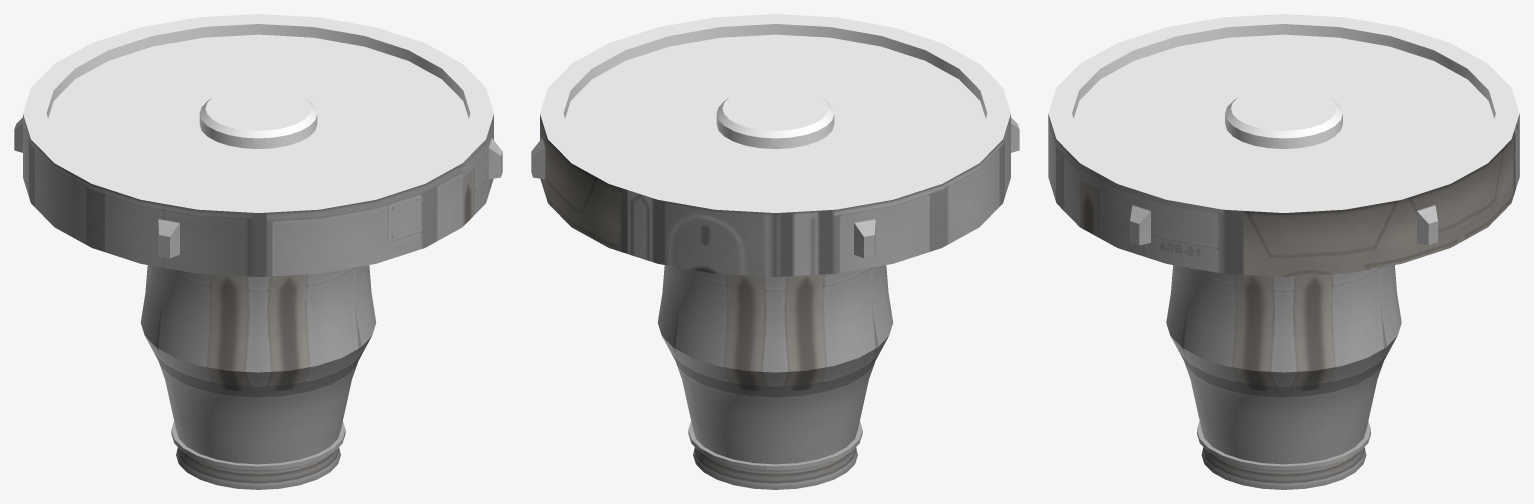
Rendered from ALV_3_Engine_1.obj.
The picture shows the model from 3 angles, left to right: view 1: azimuth 30°, elevation 25°; view 2: azimuth 150°, elevation 25°; view 3: azimuth 270°, elevation 25°; orthographic projection.
Parts seen in each view (by area): view 1: ALV_3_Engine_1, ALV_3_Engine_1_Nozzle; view 2: ALV_3_Engine_1, ALV_3_Engine_1_Nozzle; view 3: ALV_3_Engine_1, ALV_3_Engine_1_Nozzle.
Part boxes in pixels (box(x1,y1,x2,y2)): ALV_3_Engine_1: box(14, 14, 502, 470); ALV_3_Engine_1_Nozzle: box(176, 447, 340, 489); ALV_3_Engine_1: box(531, 14, 1019, 470); ALV_3_Engine_1_Nozzle: box(693, 447, 857, 489); ALV_3_Engine_1: box(1048, 14, 1519, 470); ALV_3_Engine_1_Nozzle: box(1201, 447, 1366, 489).
Bounding box in the file's own units: 2.5 × 2.03 × 2.5.
